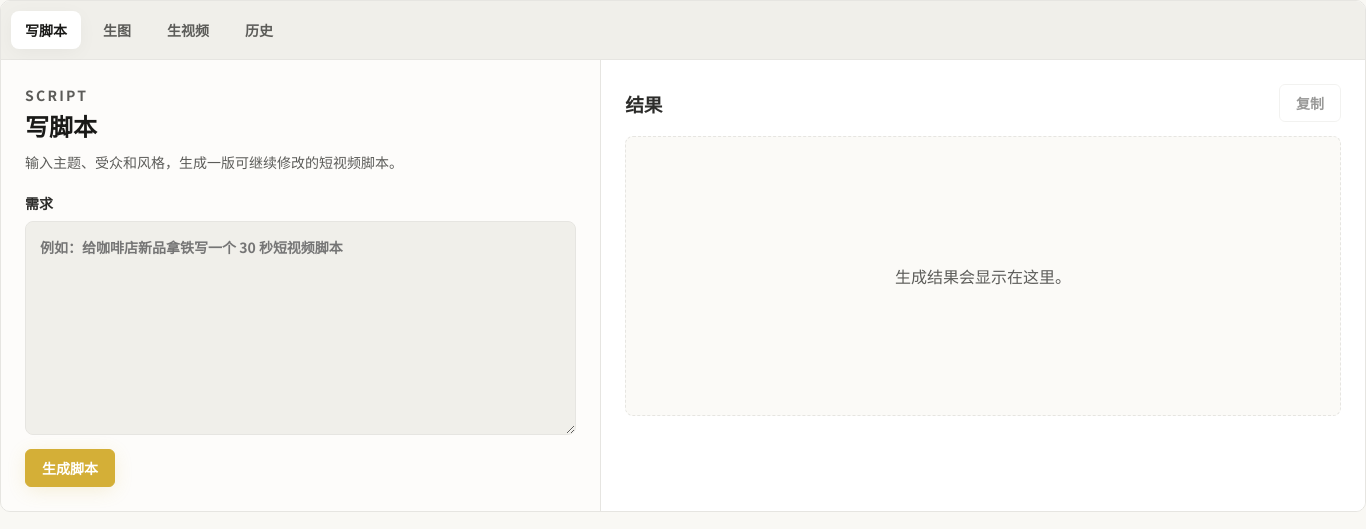
Test: ToolTabs › switches between tools
The image size is (1366, 529).
Expected: the heading "写脚本" is shown, [25, 115, 97, 141]
Click the button "生图". click: (117, 30)
box: [89, 11, 145, 49]
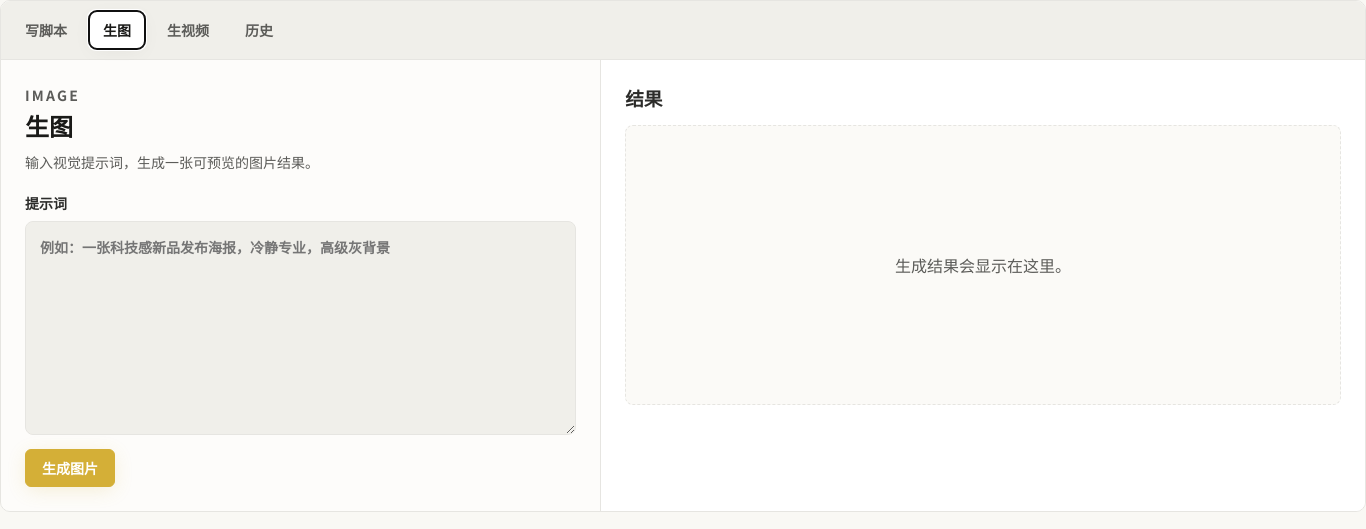
Result: the heading "生图" is shown at [25, 115, 73, 141]
Click the button "生视频". click: (188, 30)
box: [153, 11, 223, 49]
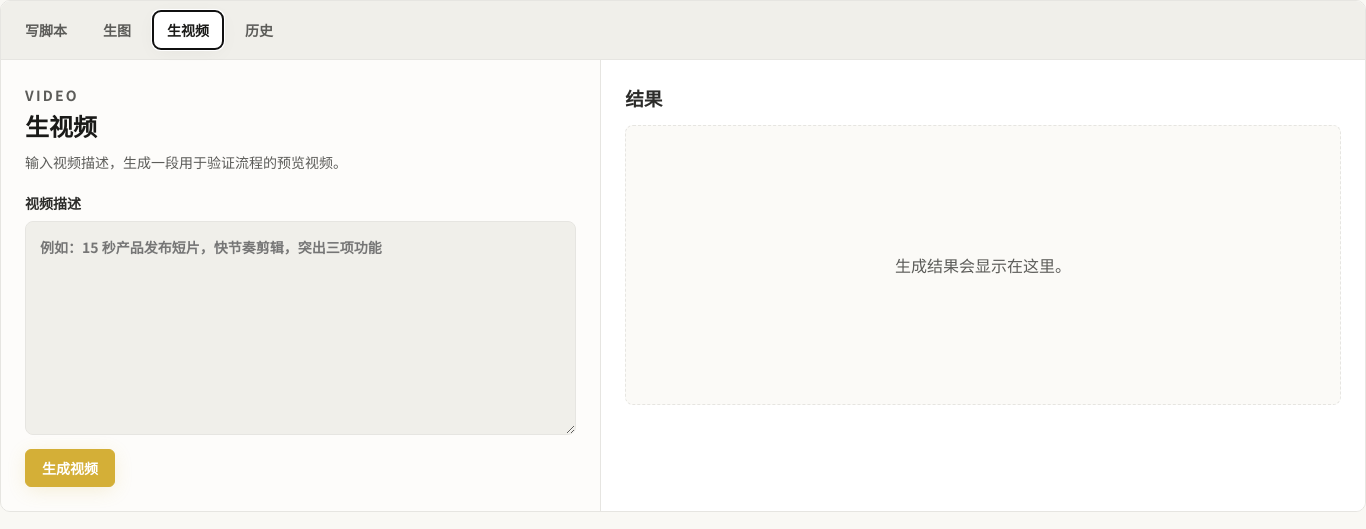
Result: the heading "生视频" is shown at [25, 115, 97, 141]
